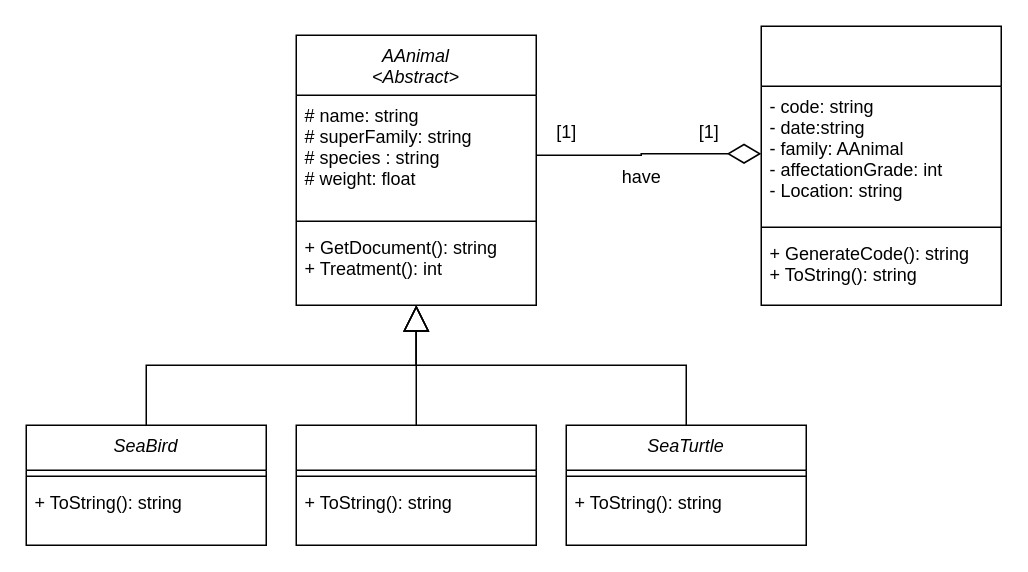
The diagram is 1028 pixels wide and 572 high, and some of its shapes have lost their labels. The box of each missing label's shape, as (x1, y1, x2, y2) in pixels:
Cetacean: (295, 424, 536, 545)
Rescue: (760, 25, 1001, 305)
